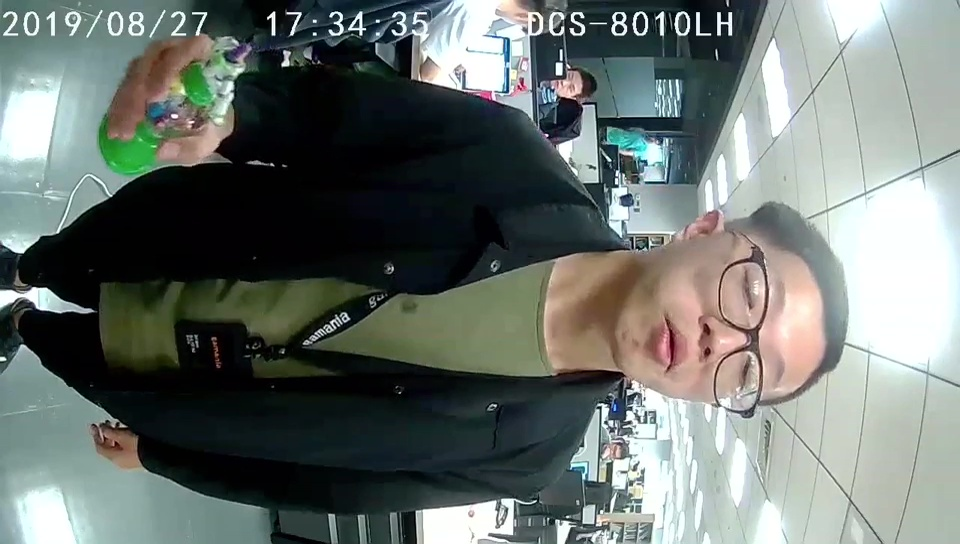buzz: (98, 34, 254, 176)
